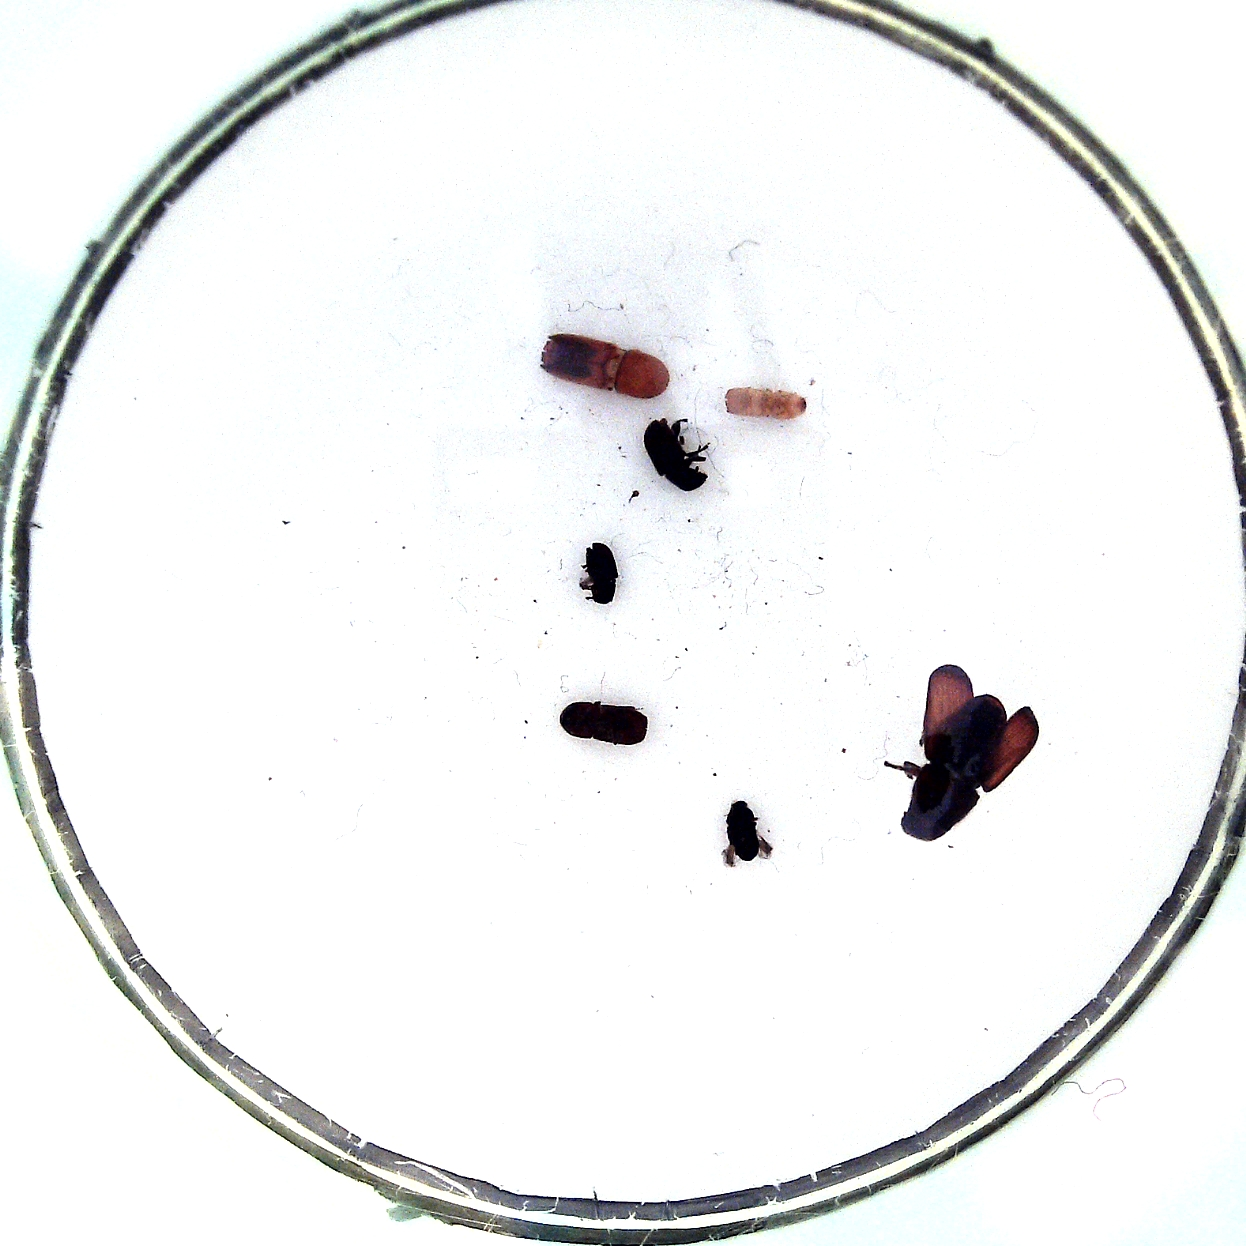Boerner: (539, 333, 669, 399)
Leconte: (900, 695, 1008, 841)
acuminatus: (726, 801, 761, 861)
armandi: (644, 419, 707, 491)
coleoptera: (585, 542, 618, 604)
linnaeus: (559, 701, 647, 746), (725, 387, 806, 420)
